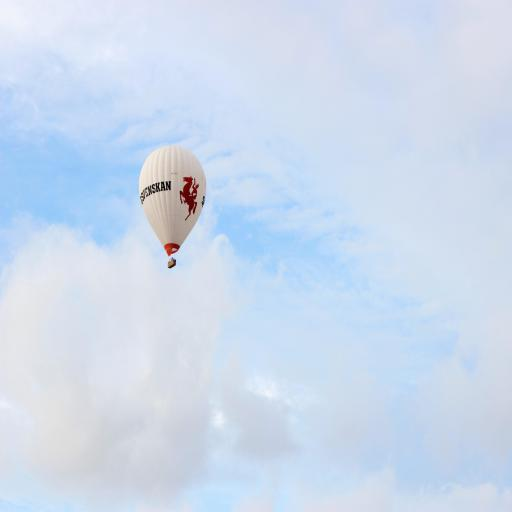hot air ballon: (138, 143, 208, 268)
